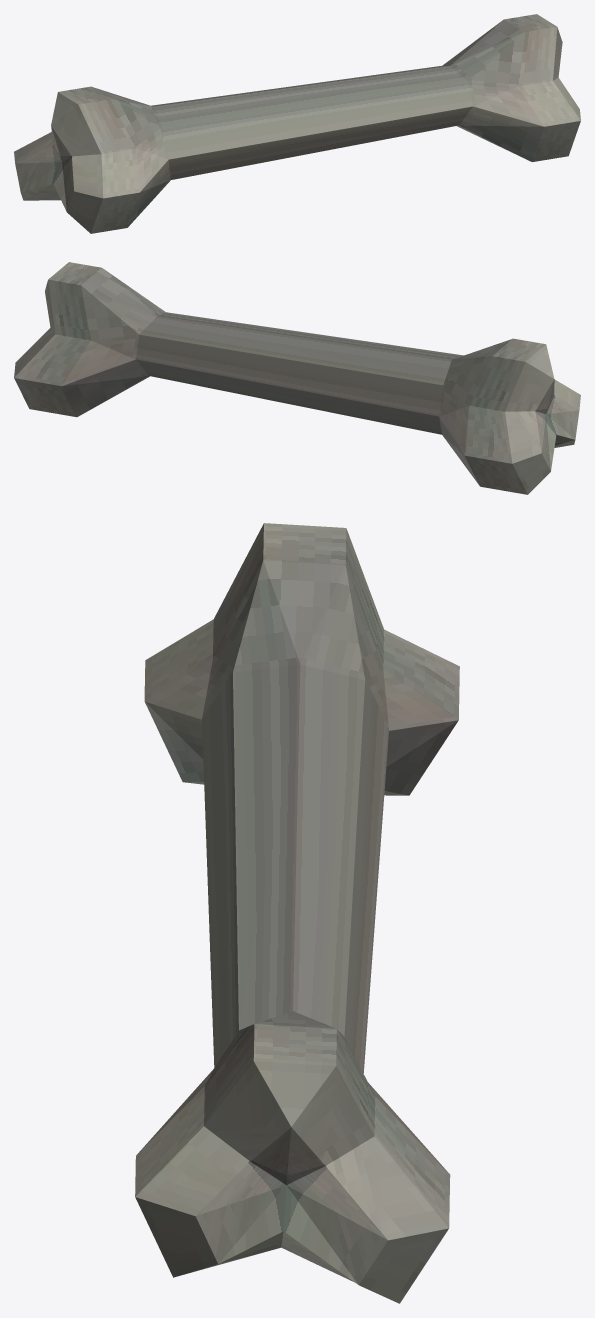
File: point.obj
The picture shows the model from 3 angles, top to bottom: view 1: azimuth 30°, elevation 25°; view 2: azimuth 150°, elevation 25°; view 3: azimuth 270°, elevation 25°; orthographic projection. The views are drawn at different scales.
Parts seen in each view (by area): view 1: Object_BoneSS00_jpg; view 2: Object_BoneSS00_jpg; view 3: Object_BoneSS00_jpg.
Part boxes in pixels (x1,y1,x2,y2): Object_BoneSS00_jpg: [14, 14, 580, 233]; Object_BoneSS00_jpg: [14, 262, 580, 494]; Object_BoneSS00_jpg: [135, 523, 459, 1303].
Size of the model in its own units: 1.05 by 0.2988 by 0.281.
Materials: 1 (1 with a texture image).
